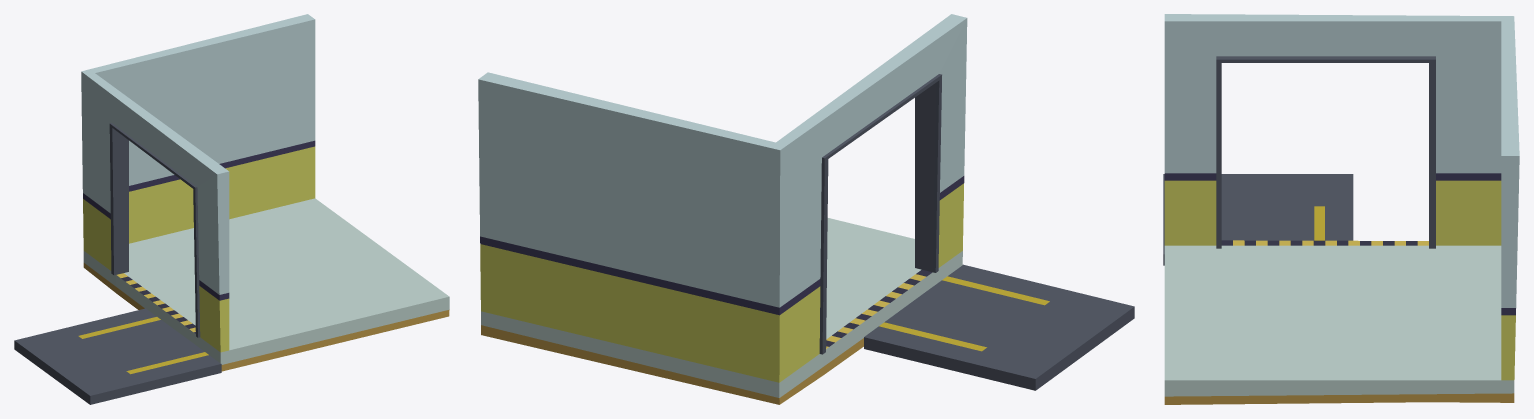
Rendered from open warehouse.fbx.
3 renders of one model, left to right at view 1: azimuth 30°, elevation 25°; view 2: azimuth 150°, elevation 25°; view 3: azimuth 270°, elevation 25°, orthographic. The views are drawn at different scales.
Visible parts, largest first — view 1: Cube.030; view 2: Cube.030; view 3: Cube.030.
Boxes of the visible parts, x1,y1,x2,y2 form: Cube.030: [14, 14, 449, 404]; Cube.030: [478, 14, 1134, 404]; Cube.030: [1163, 14, 1519, 404].
Size of the model in its own units: 8328 by 4401 by 5700.
